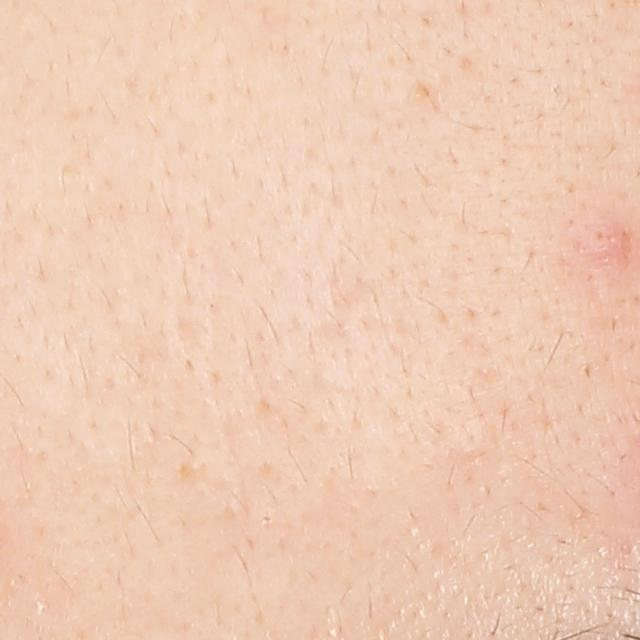papule: (555, 210, 619, 270)
